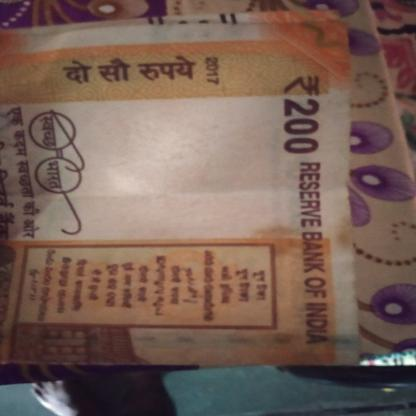New200Back: (1, 33, 329, 362)
